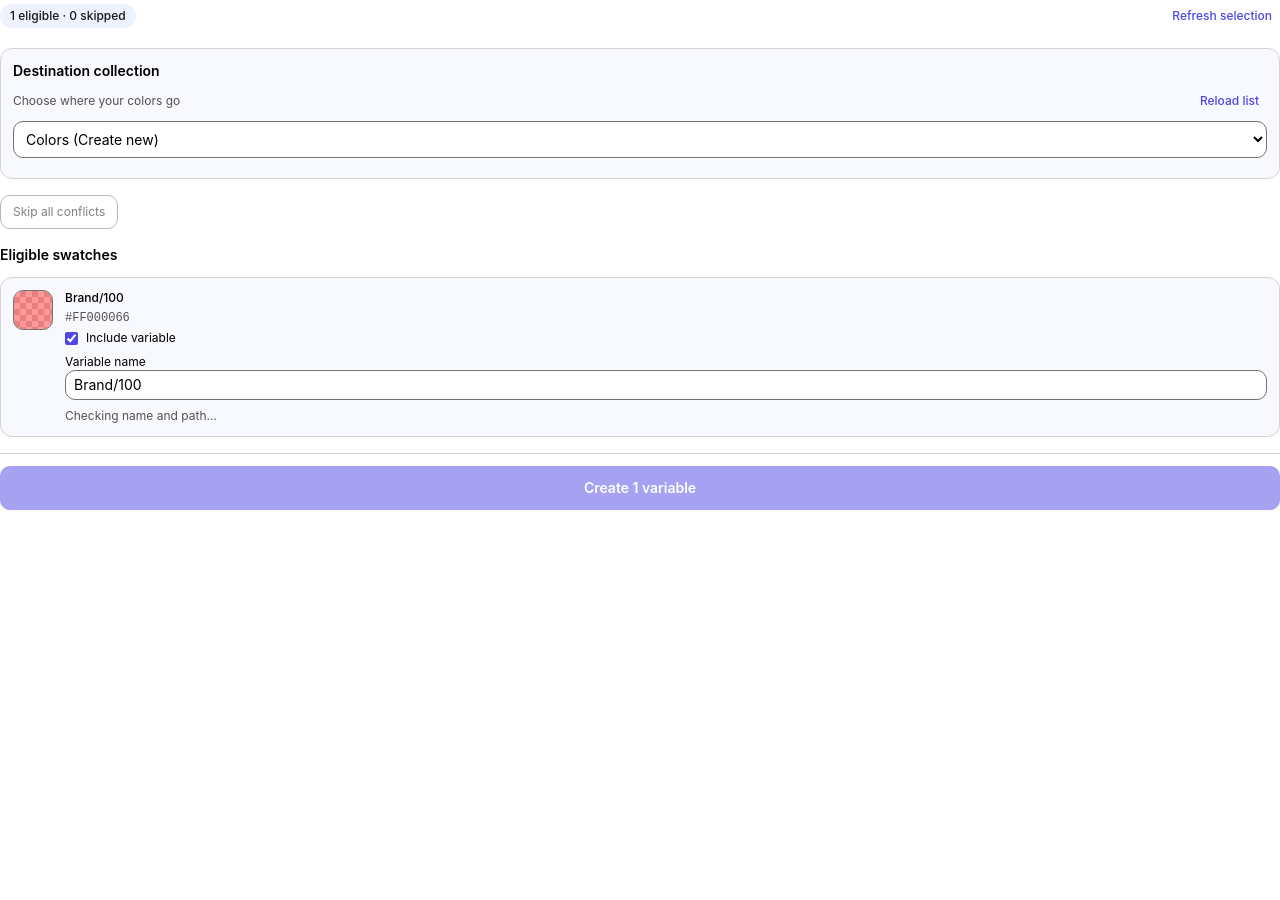
Test: keeps edits on selection change and lets the designer cancel or confirm refresh
Expected: the dropdown shows "Colors (Create new)", [13,121,1267,158]
Step 1. Replace the text in the field labelled "Variable name" with "Renamed/100" → [666, 385], box [65,370,1267,400]
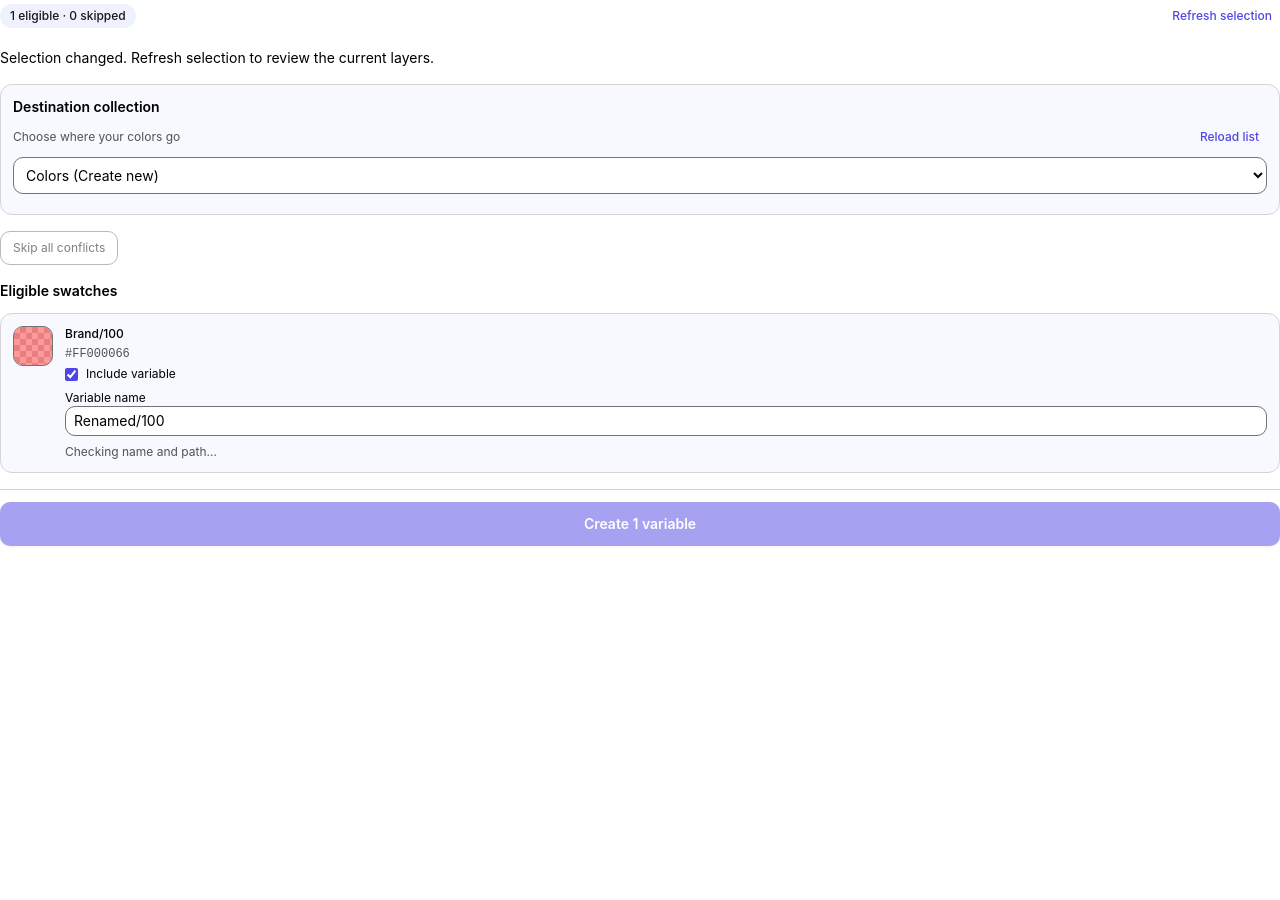
Result: the text "Selection changed" is shown at [0,49,434,66]
Step 2. Click the button "Refresh selection" → [1222, 16], box [1164,0,1279,32]
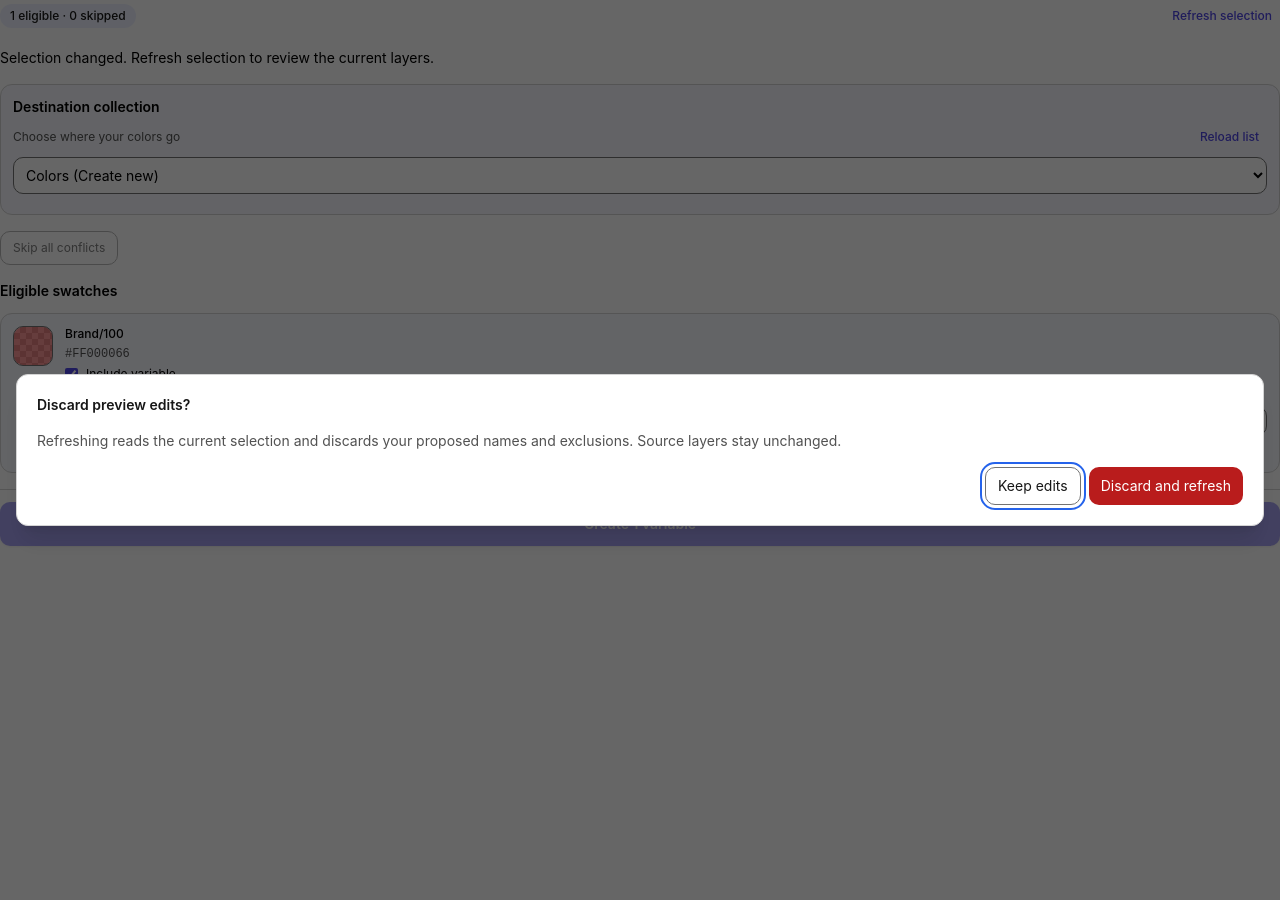
Result: the text "Discard preview edits?" is shown at [37,396,190,413]
Step 3. Click the button "Keep edits" → [1033, 486], box [985,467,1081,505]
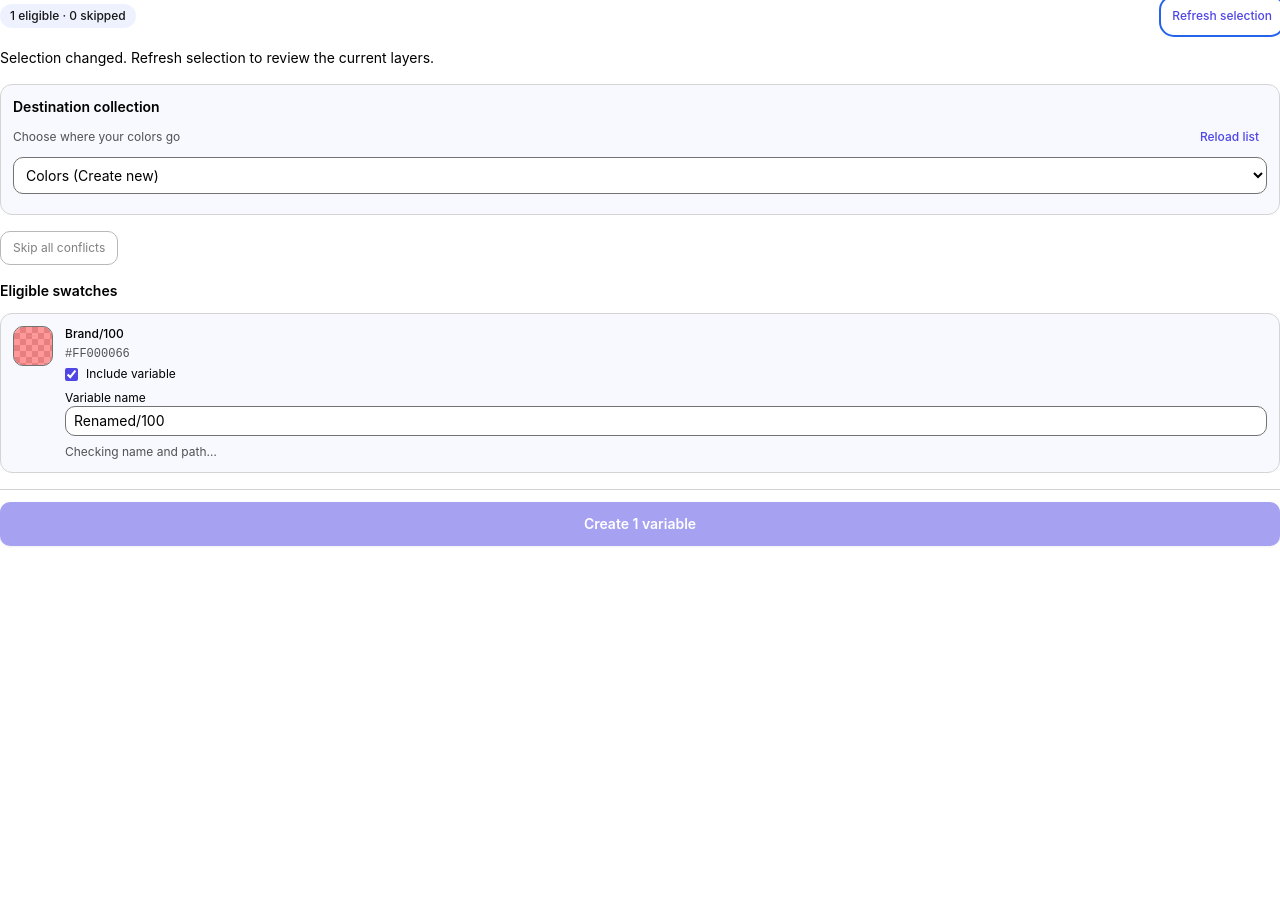
Step 4. Click the button "Refresh selection" → [1222, 16], box [1164,0,1279,32]
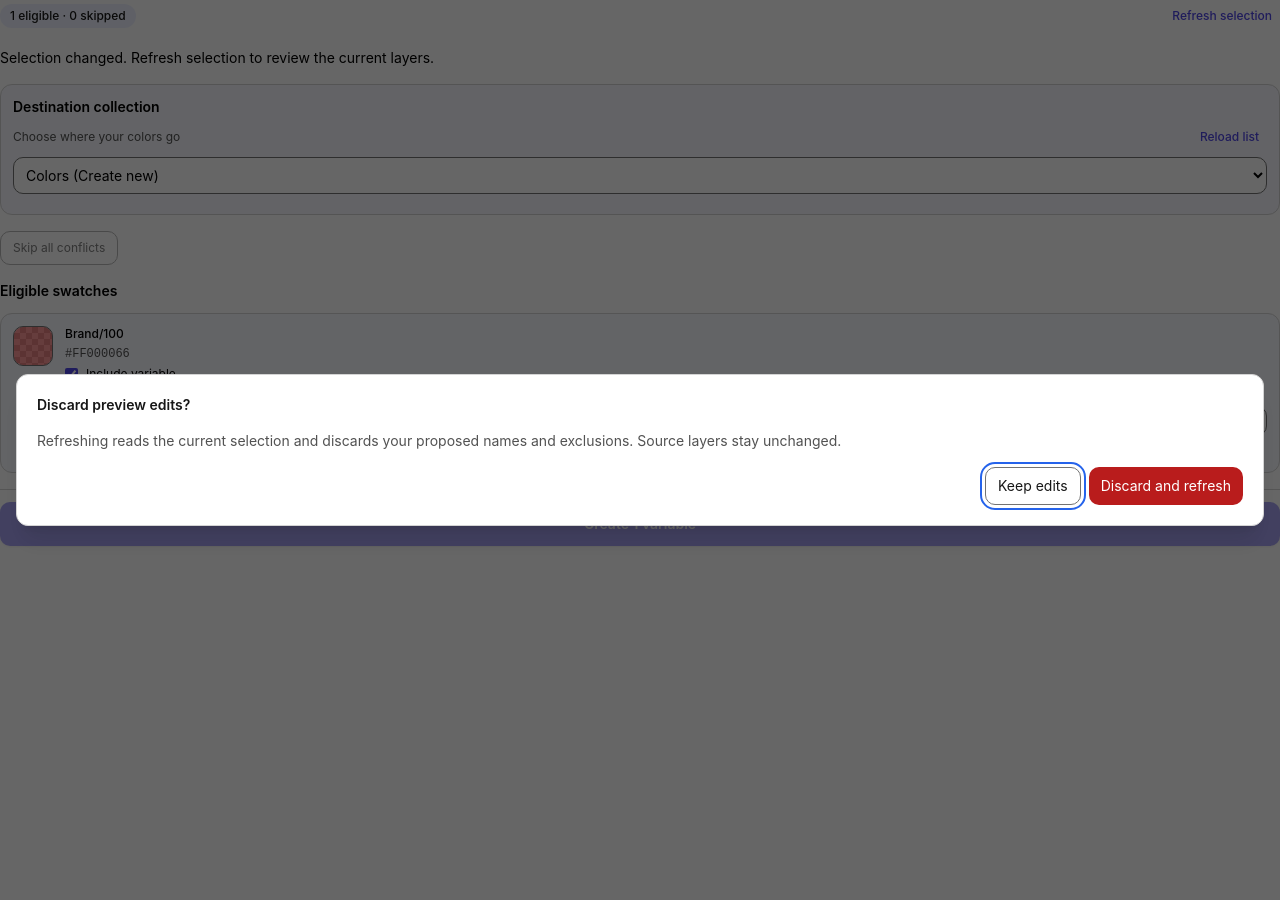
Step 5. Click the button "Discard and refresh" → [1166, 486], box [1089,467,1243,505]
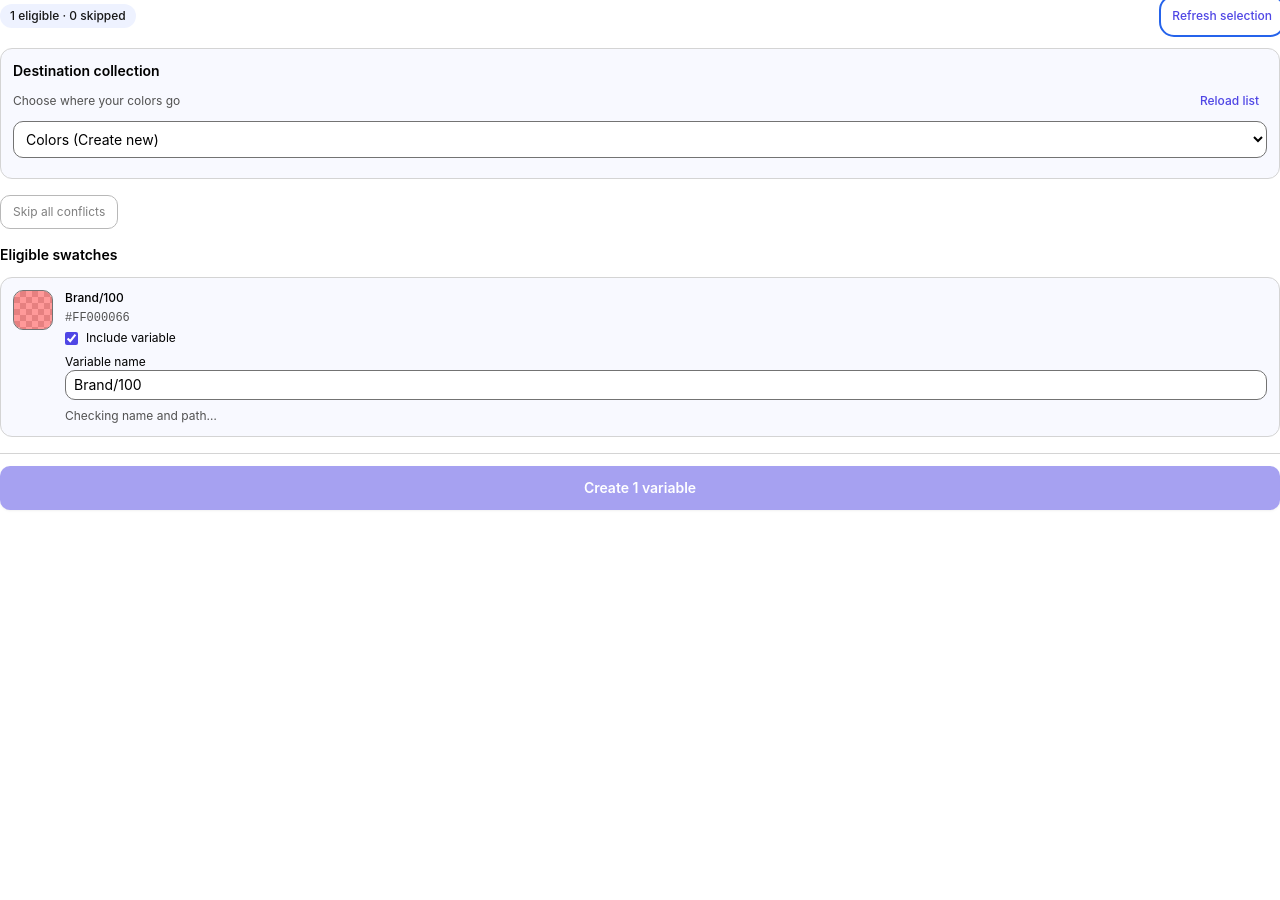
Result: the field labelled "Variable name" holds "Brand/100" at [65,370,1267,400]
